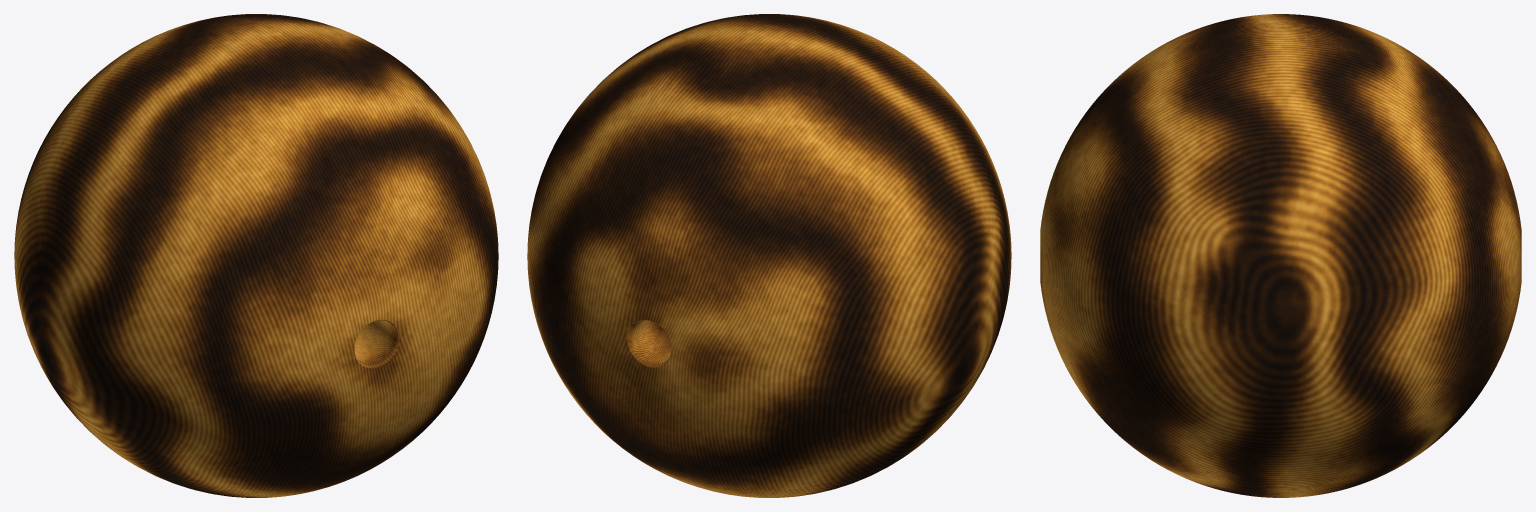
File: tigers-eye-10mm.glb
3 views of the same model, side by side, from view 1: azimuth 30°, elevation 25°; view 2: azimuth 150°, elevation 25°; view 3: azimuth 270°, elevation 25° (orthographic).
Visible parts, largest first — view 1: tigers-eye.001; view 2: tigers-eye.001; view 3: tigers-eye.001.
Boxes of the visible parts, x1=… form: tigers-eye.001: x1=14, y1=14, x2=498, y2=497; tigers-eye.001: x1=527, y1=14, x2=1011, y2=497; tigers-eye.001: x1=1040, y1=14, x2=1521, y2=497.
Bounding box in the file's own units: 0.01 × 0.01 × 0.00994.
1 material, 1 textured.
